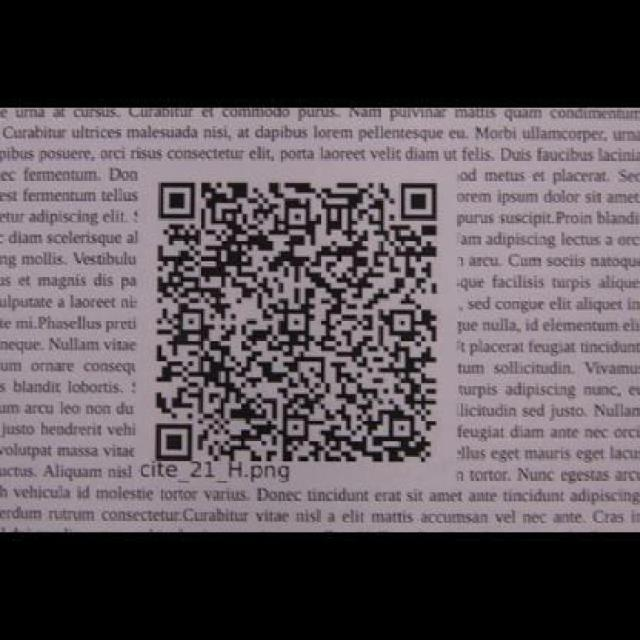QRCode: (151, 175, 444, 466)
